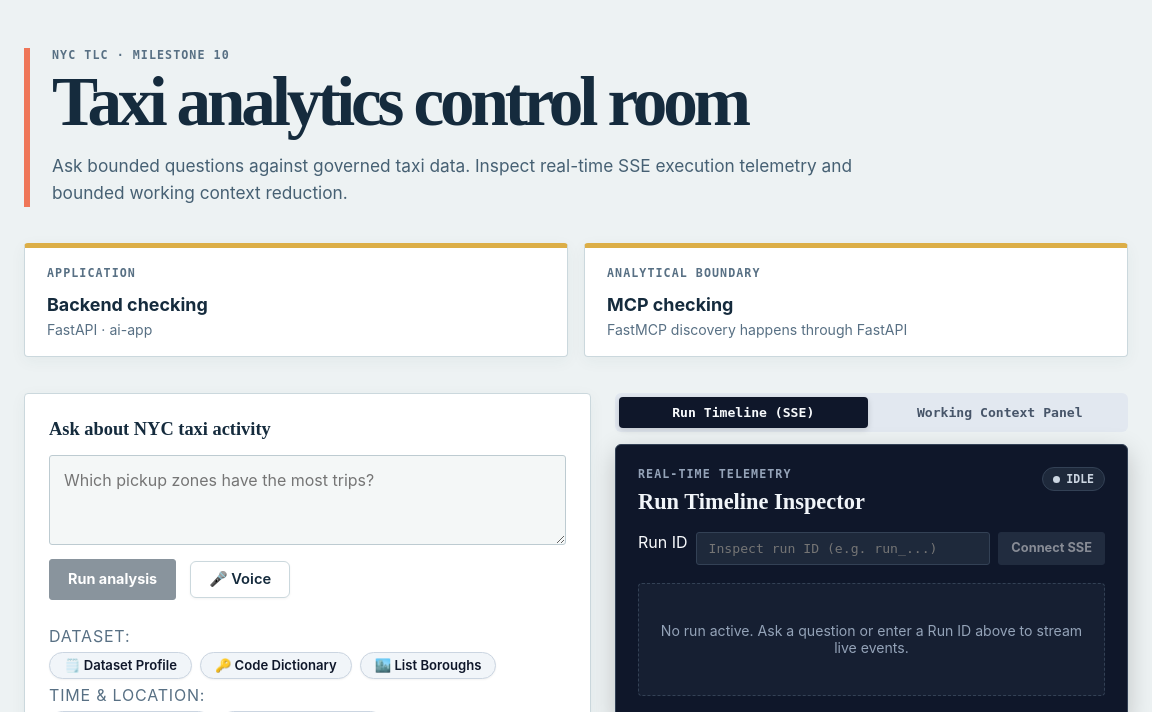
Test: App › does not let a stale mount hydration overwrite a submitted run
The width and height of the screenshot is (1152, 712).
Type "Fresh question" into the text box labelled "Ask about NYC taxi activity".
click(308, 500); type("Fresh question")  # box [49,456,566,546]
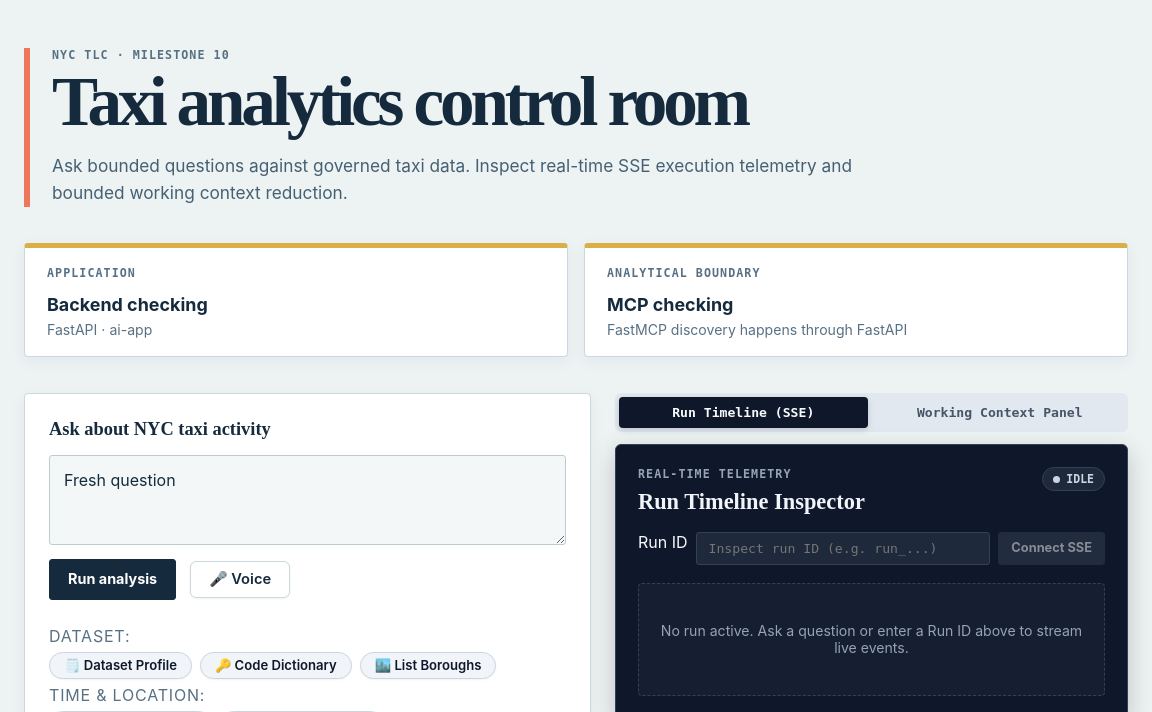
Click the button "Run analysis".
click(113, 580)  # box [49,560,176,600]
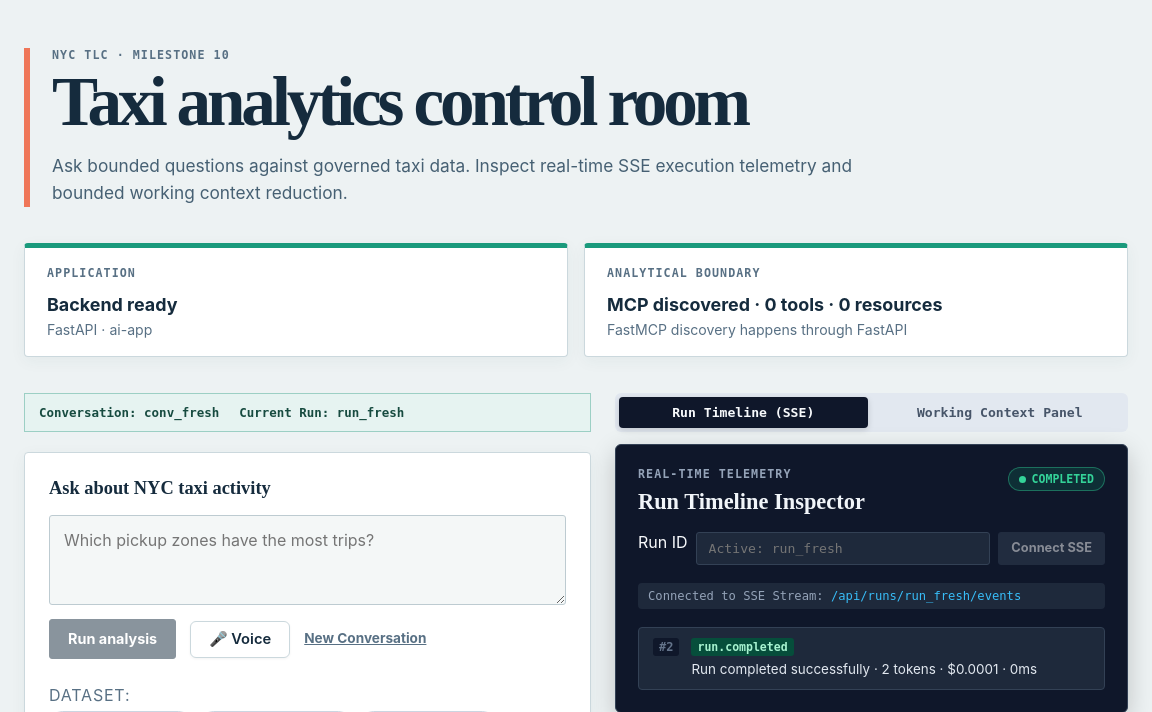
expect the element named "Conversation and current run identity" shows "conv_fresh": met, box [144,405,219,420]
expect the element named "Conversation and current run identity" shows "run_fresh": met, box [337,405,404,420]
